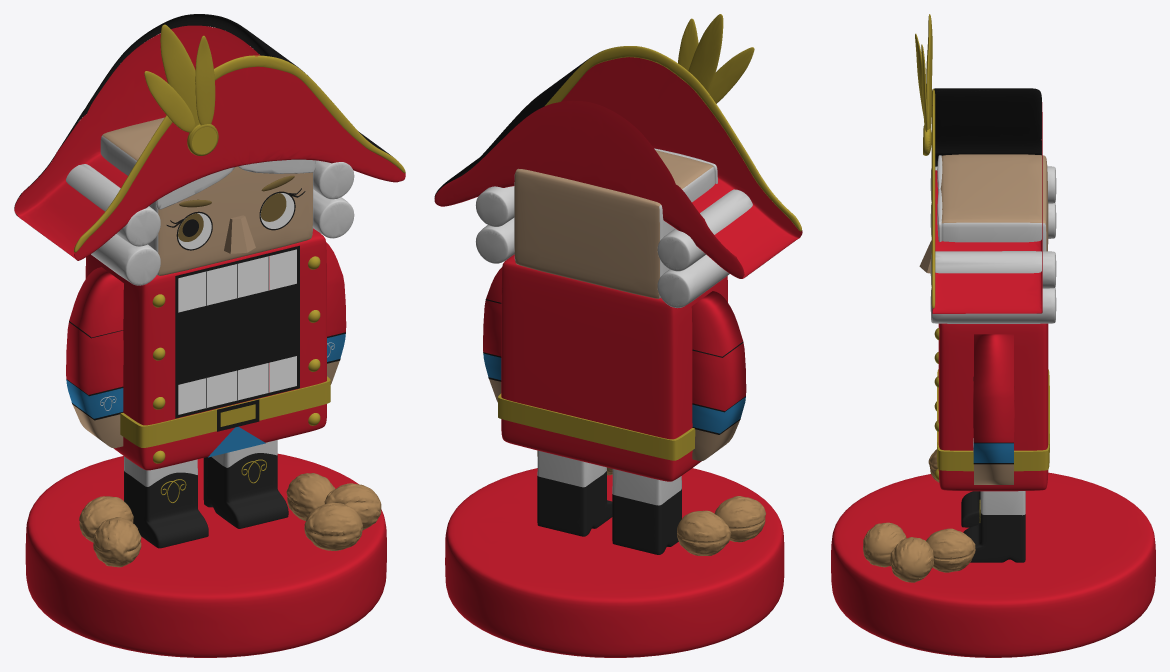
File: nutcracker-with-nuts.glb
The picture shows the model from 3 angles, left to right: view 1: azimuth 30°, elevation 25°; view 2: azimuth 150°, elevation 25°; view 3: azimuth 270°, elevation 25°; orthographic projection. The views are drawn at different scales.
Visible parts, largest first — view 1: body_red_0, body_yellow1_0, body_black_0, body_white_0, head_skin_0, legs_shoes_0, body_teeth_0, nuts_nuts_0, body_blue_0, face_brown_0, face_skin.001_0; view 2: body_red_0, head_skin_0, body_white_0, body_yellow1_0, legs_shoes_0, nuts_nuts_0, body_black_0, body_blue_0; view 3: body_red_0, body_white_0, head_skin_0, body_black_0, nuts_nuts_0, body_yellow1_0, legs_shoes_0, body_blue_0.
Boxes of the visible parts, left/top/right/bottom form: body_red_0: left=14, top=25, right=405, bottom=657; body_yellow1_0: left=73, top=24, right=405, bottom=503; body_black_0: left=14, top=14, right=392, bottom=431; body_white_0: left=66, top=136, right=354, bottom=486; head_skin_0: left=72, top=117, right=339, bottom=448; legs_shoes_0: left=124, top=453, right=288, bottom=548; body_teeth_0: left=178, top=193, right=296, bottom=414; nuts_nuts_0: left=79, top=473, right=381, bottom=567; body_blue_0: left=66, top=333, right=345, bottom=457; face_brown_0: left=178, top=175, right=294, bottom=241; face_skin.001_0: left=224, top=215, right=255, bottom=253; body_red_0: left=434, top=57, right=802, bottom=657; head_skin_0: left=489, top=150, right=739, bottom=461; body_white_0: left=475, top=148, right=752, bottom=505; body_yellow1_0: left=498, top=14, right=801, bottom=460; legs_shoes_0: left=537, top=471, right=681, bottom=554; nuts_nuts_0: left=537, top=450, right=765, bottom=555; body_black_0: left=434, top=50, right=768, bottom=434; body_blue_0: left=483, top=353, right=745, bottom=433; body_red_0: left=831, top=102, right=1155, bottom=657; body_white_0: left=930, top=155, right=1056, bottom=515; head_skin_0: left=940, top=154, right=1048, bottom=484; body_black_0: left=934, top=88, right=1041, bottom=464; nuts_nuts_0: left=863, top=449, right=975, bottom=582; body_yellow1_0: left=915, top=14, right=1049, bottom=522; legs_shoes_0: left=961, top=491, right=1025, bottom=562; body_blue_0: left=973, top=442, right=1013, bottom=462.
Size of the model in its own units: 0.8896 by 1.55 by 0.839.
